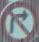Don't turn right: (0, 2, 37, 41)
